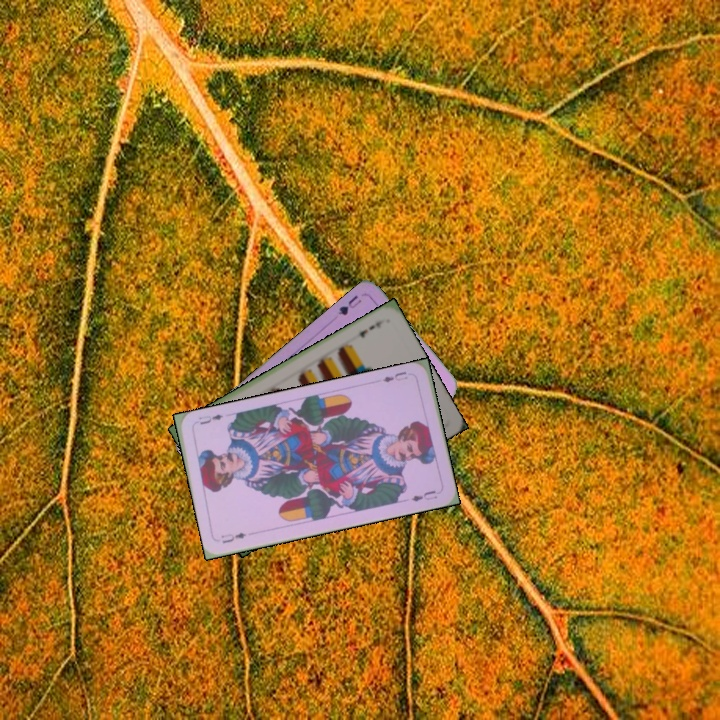E7: (355, 316, 387, 340)
EU: (379, 367, 410, 385), (217, 529, 248, 546)
GU: (334, 291, 364, 318)
